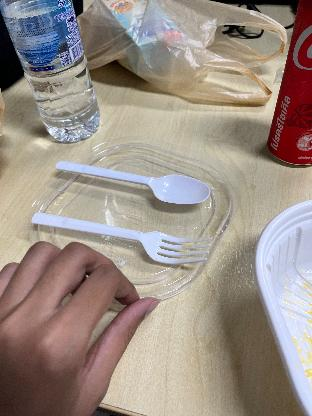Others: (28, 204, 216, 268), (50, 159, 214, 207)
